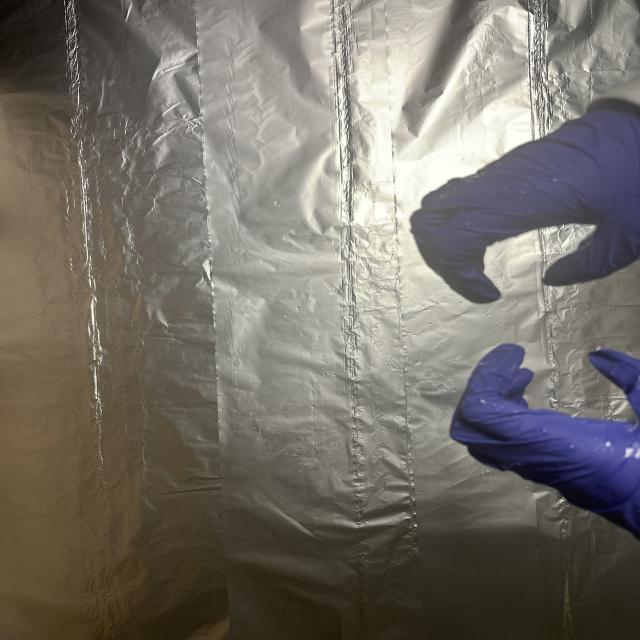gloves_contaminated: (411, 79, 640, 304), (450, 344, 640, 539), (589, 348, 640, 416)
